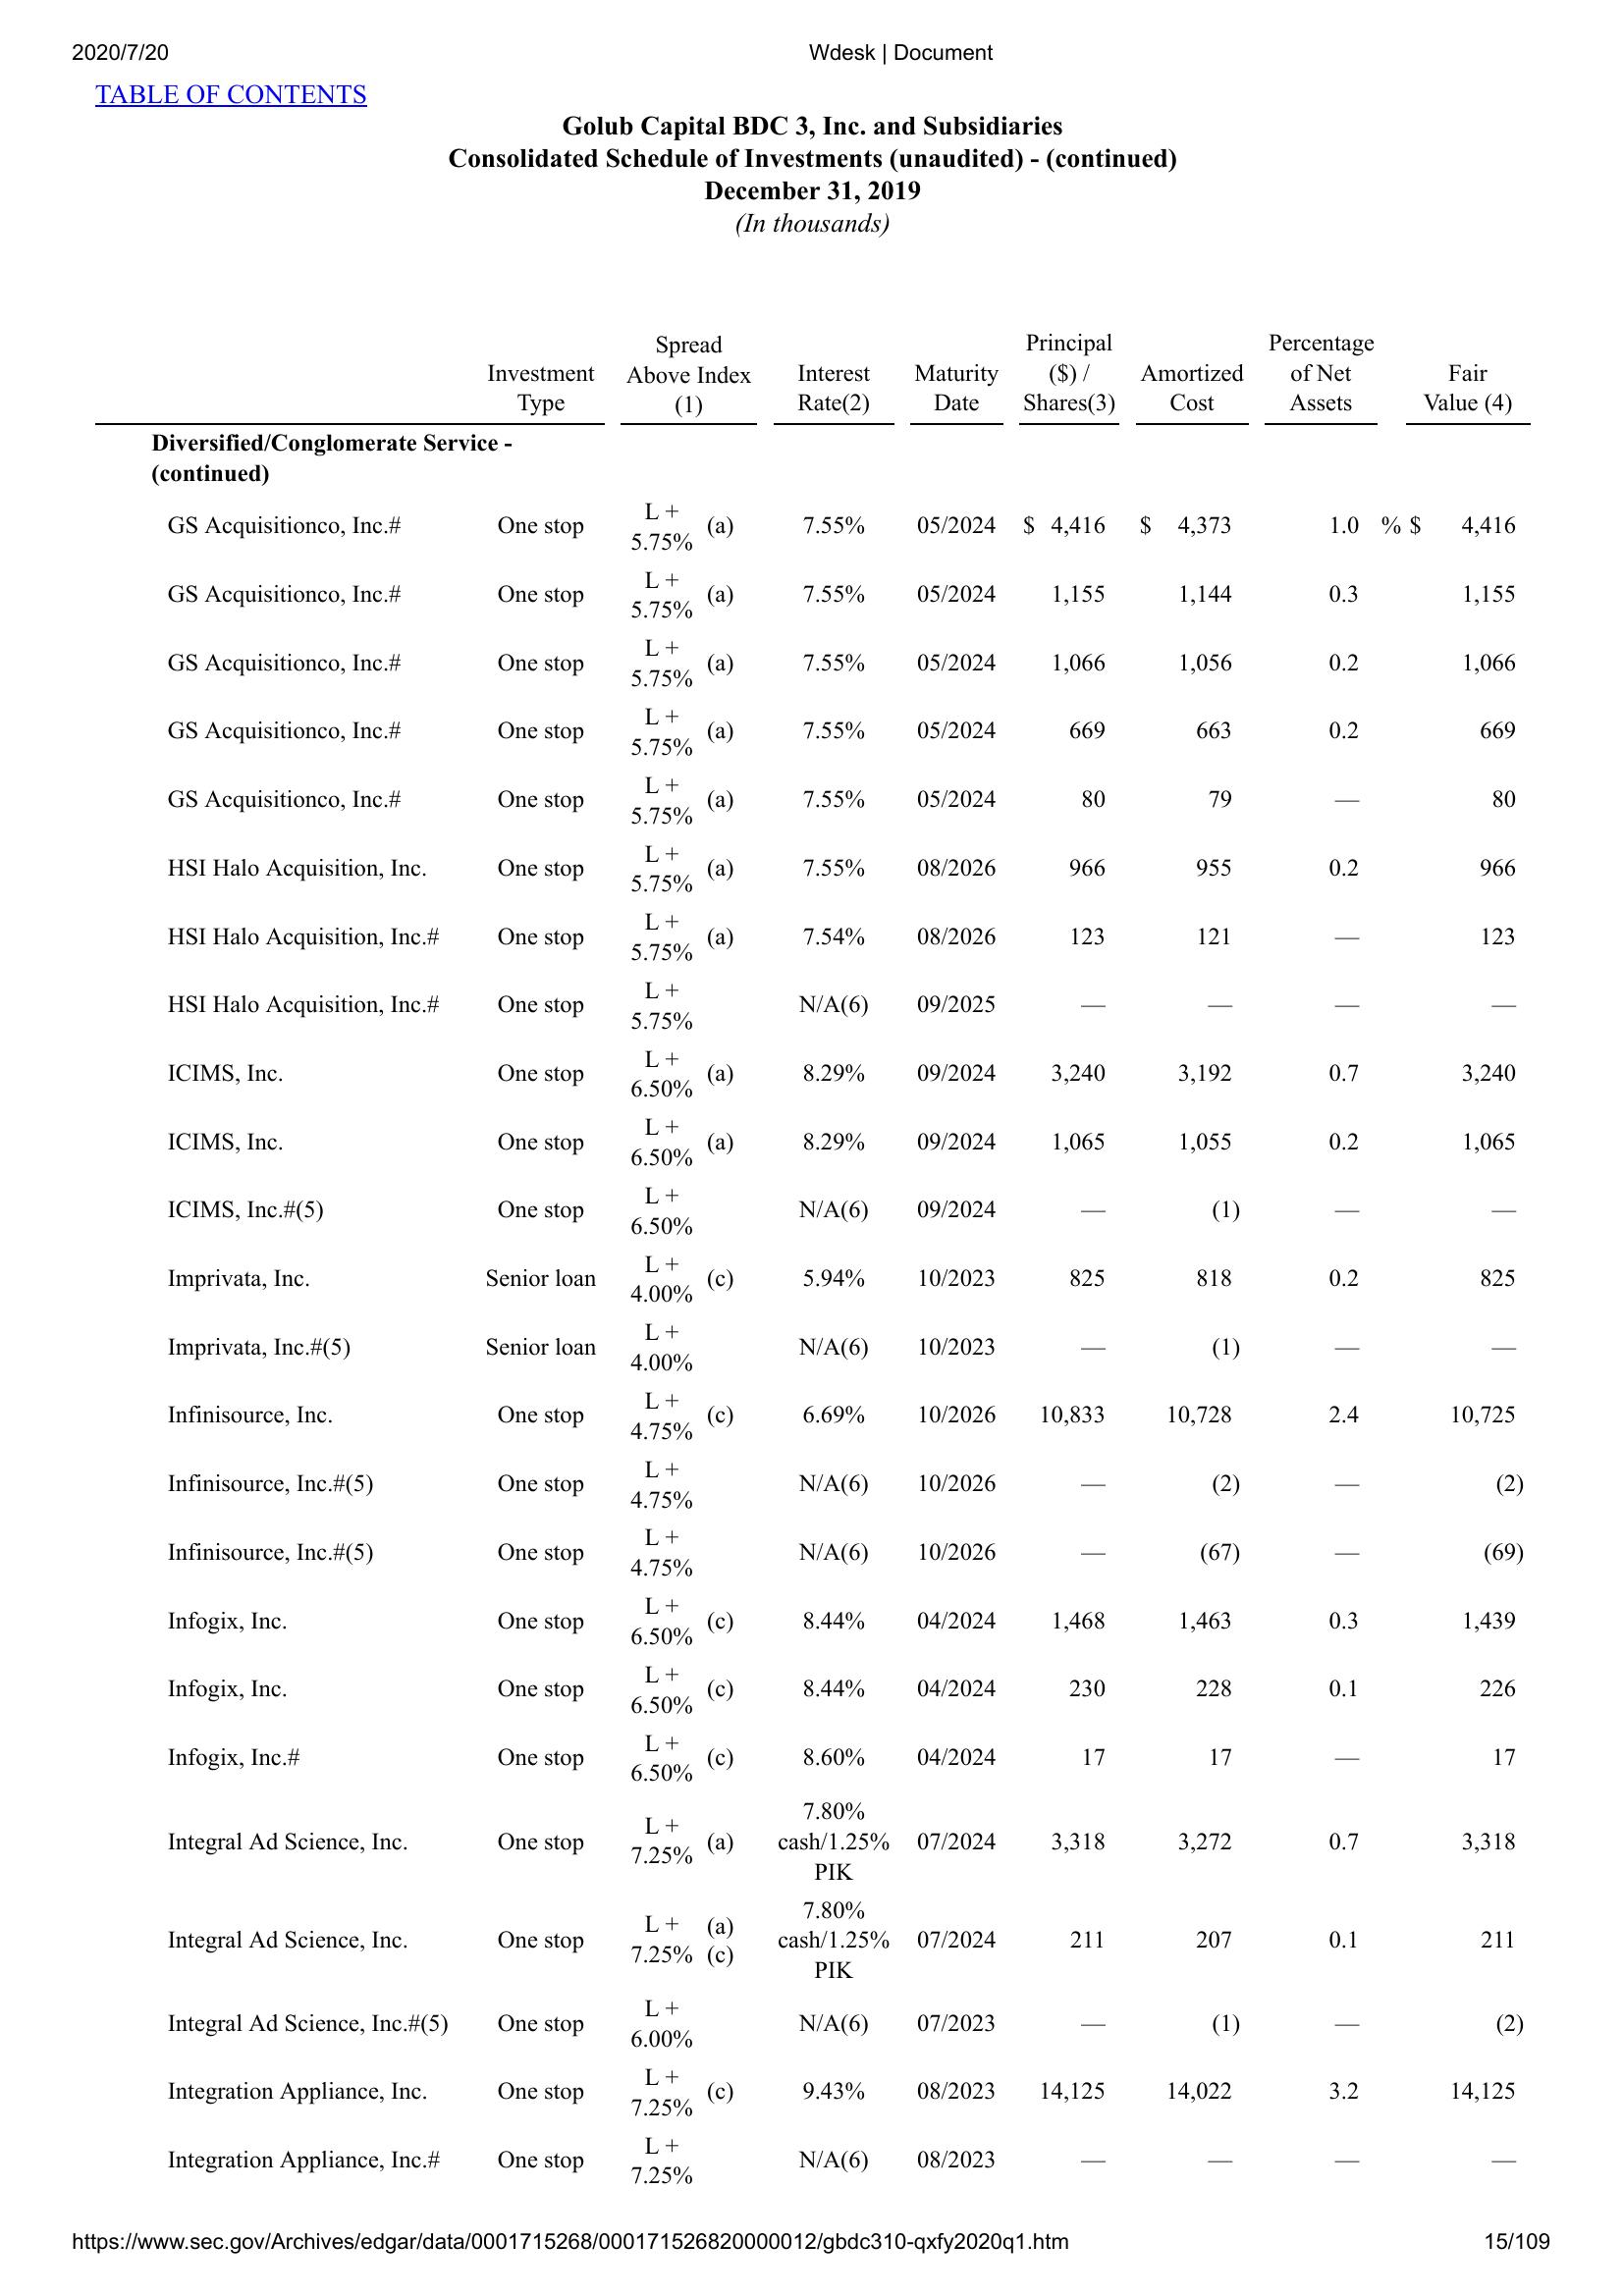table: (83, 316, 1539, 2191)
